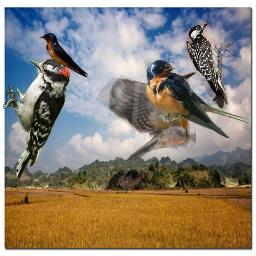Swallow: (145, 58, 250, 138), (39, 33, 88, 78)
Woodpecker: (95, 70, 196, 160), (3, 56, 70, 180), (182, 18, 240, 109)
